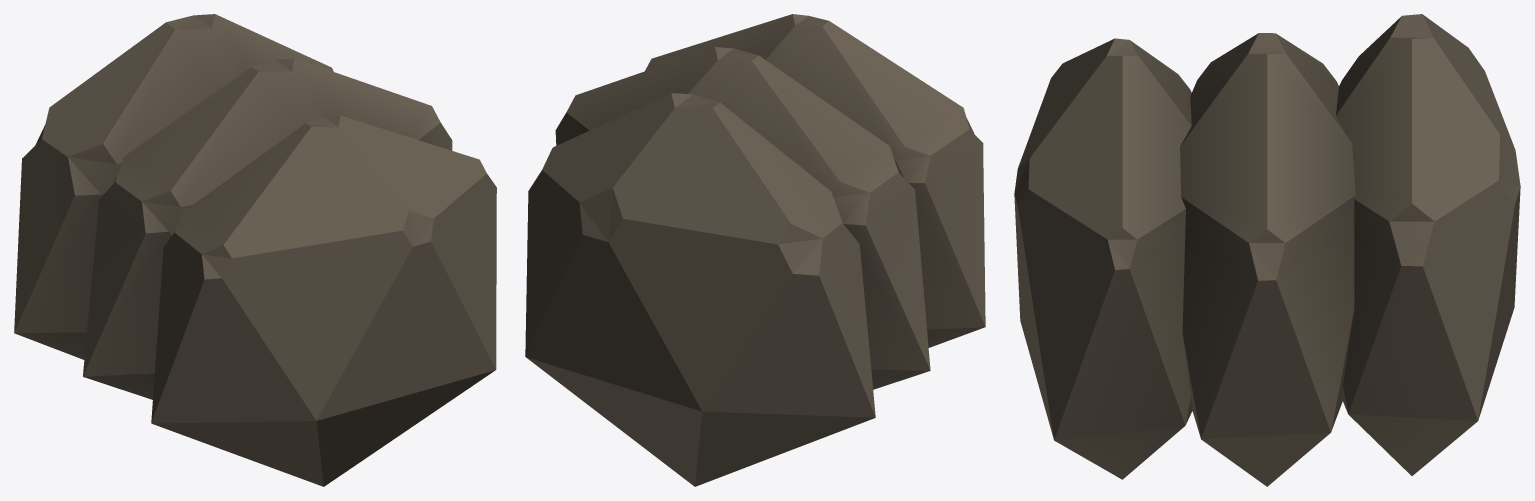
The model's file is skyreach-terrain-stratum-v1.glb.
3 views of the same model, side by side, from view 1: azimuth 30°, elevation 25°; view 2: azimuth 150°, elevation 25°; view 3: azimuth 270°, elevation 25° (orthographic). The views are drawn at different scales.
Visible parts, largest first — view 1: GB_TERRAIN_STRATUM_STONE; view 2: GB_TERRAIN_STRATUM_STONE; view 3: GB_TERRAIN_STRATUM_STONE.
Part boxes in pixels (x1,y1,x2,y2): GB_TERRAIN_STRATUM_STONE: [14, 14, 496, 486]; GB_TERRAIN_STRATUM_STONE: [525, 14, 985, 486]; GB_TERRAIN_STRATUM_STONE: [1014, 14, 1520, 486].
Size of the model in its own units: 1.05 by 1.03 by 1.05.
